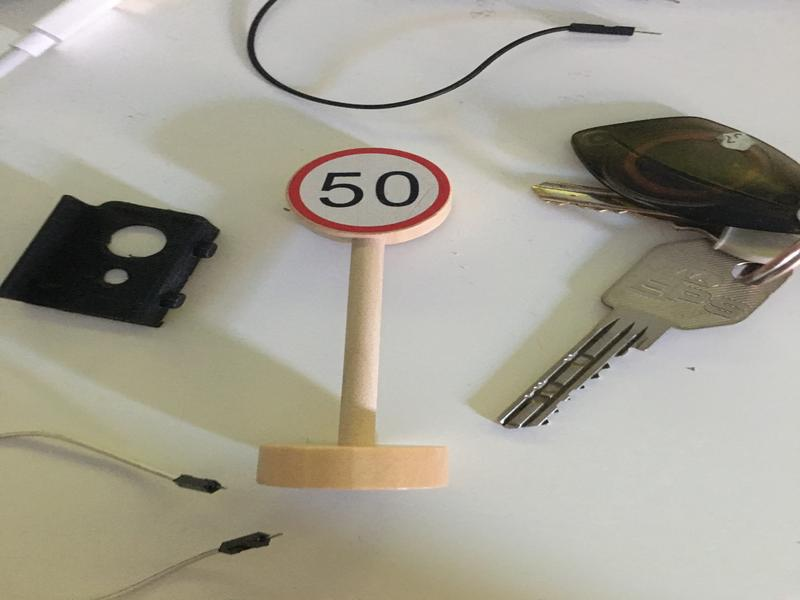Traffic_Sign_50: (287, 150, 449, 233)
